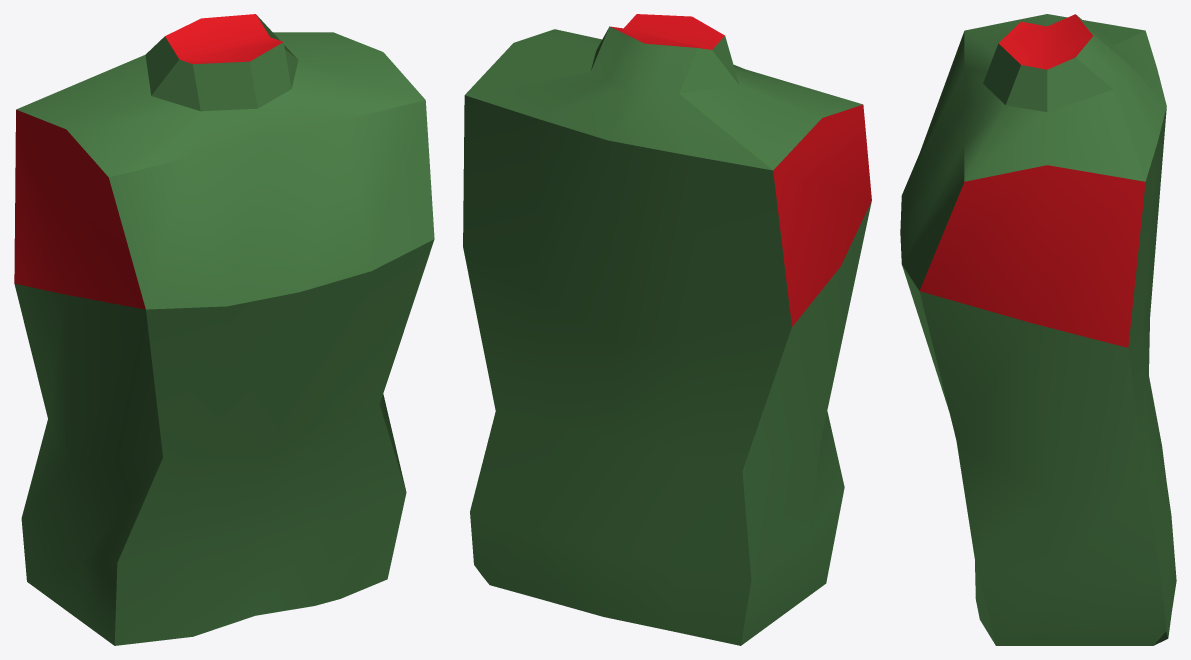
File: torso.fbx
The picture shows the model from 3 angles, left to right: view 1: azimuth 30°, elevation 25°; view 2: azimuth 150°, elevation 25°; view 3: azimuth 270°, elevation 25°; orthographic projection. The views are drawn at different scales.
Visible parts, largest first — view 1: Torso; view 2: Torso; view 3: Torso.
Part boxes in pixels (x1,y1,x2,y2): Torso: (14,14,434,645); Torso: (463,14,871,645); Torso: (900,14,1176,645).
Bounding box in the file's own units: 107 × 168 × 77.23.
